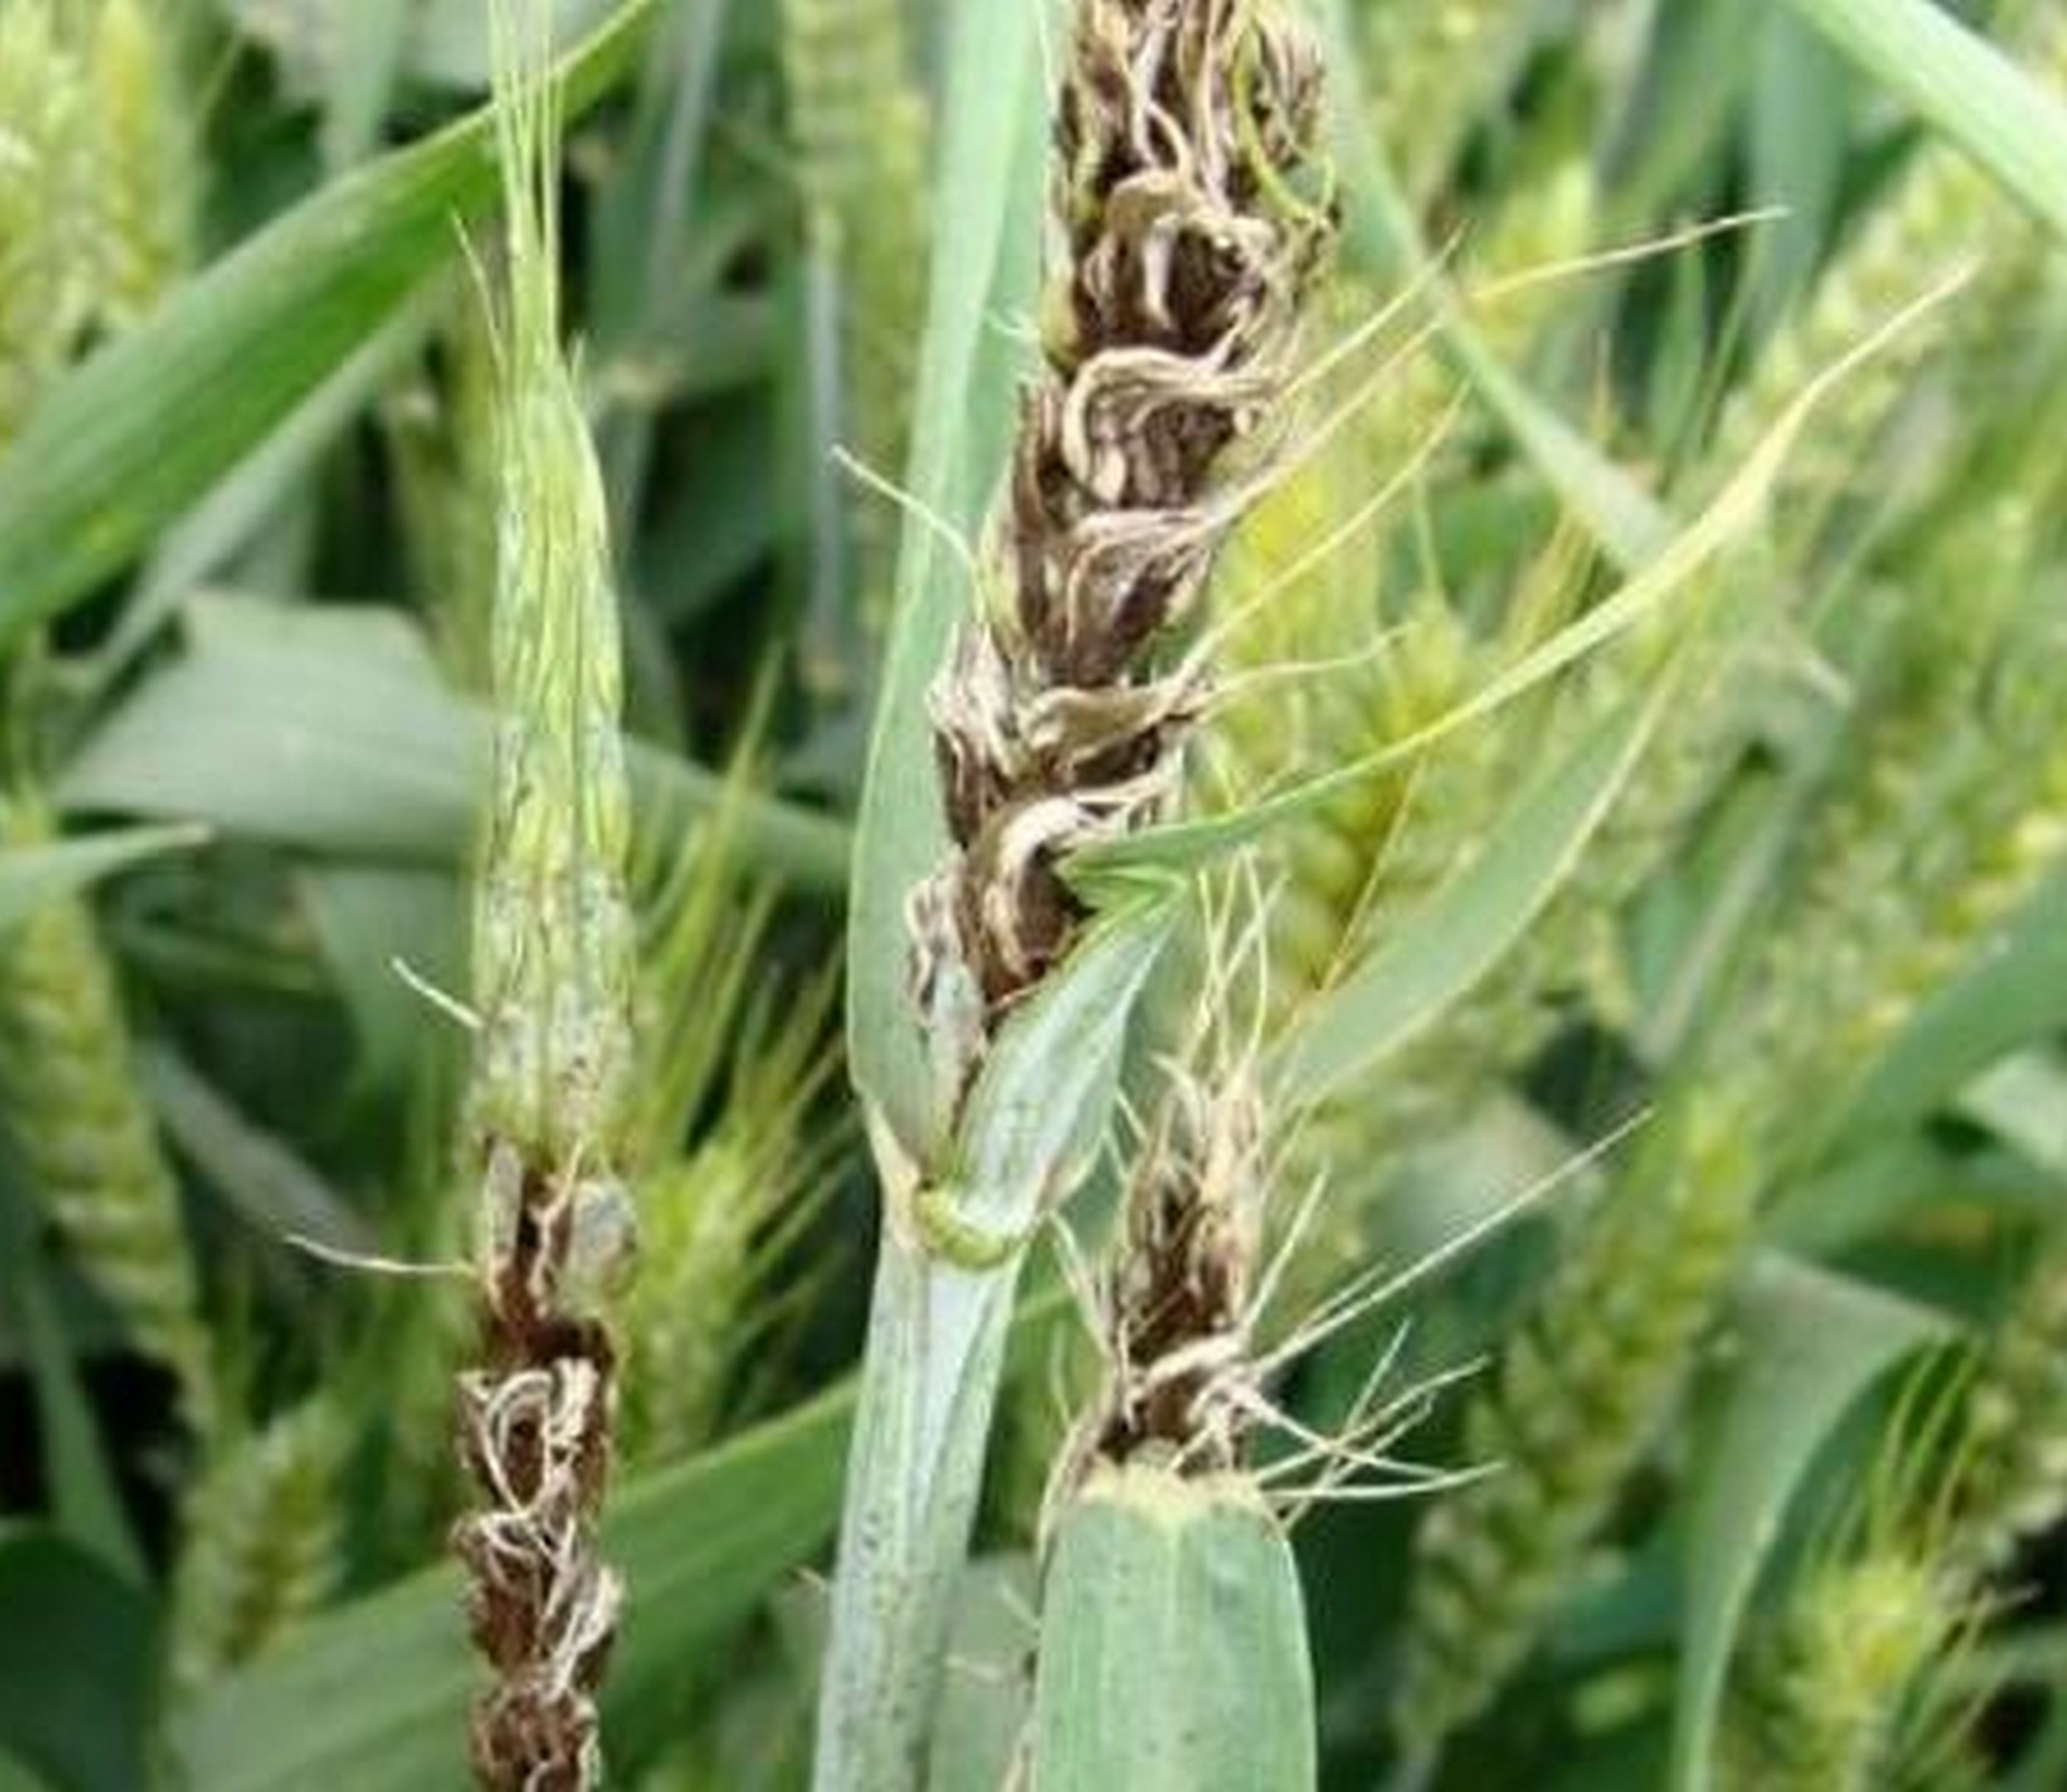Wheat Loose Smut: (946, 14, 1425, 1003), (432, 1093, 666, 1792)
